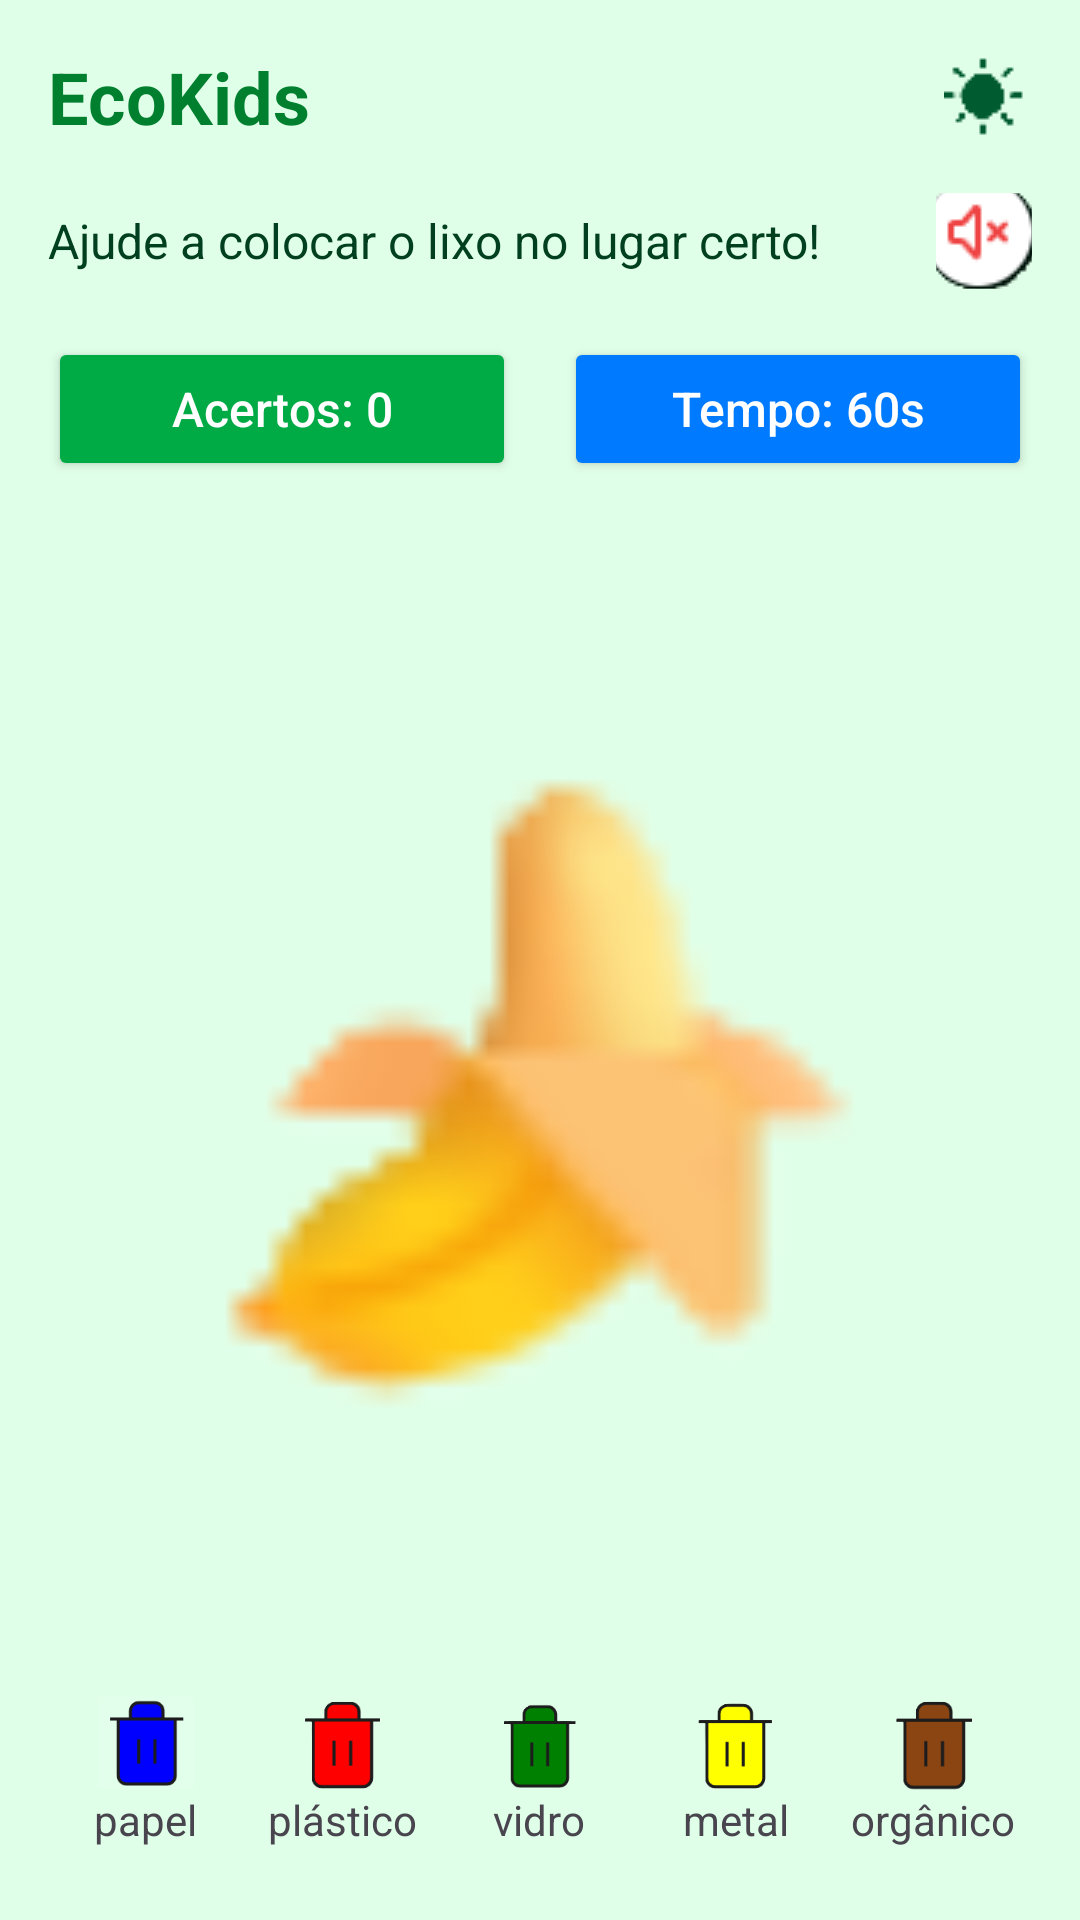

Screen size 1080px×1920px. Icon name, then its center in pixels as (x=x, y=y):
mode: (x=983, y=96)
trash: (x=147, y=1743), (x=342, y=1745), (x=735, y=1746), (x=540, y=1746)
trash brown: (x=934, y=1746)
turn off sound: (x=984, y=241)
